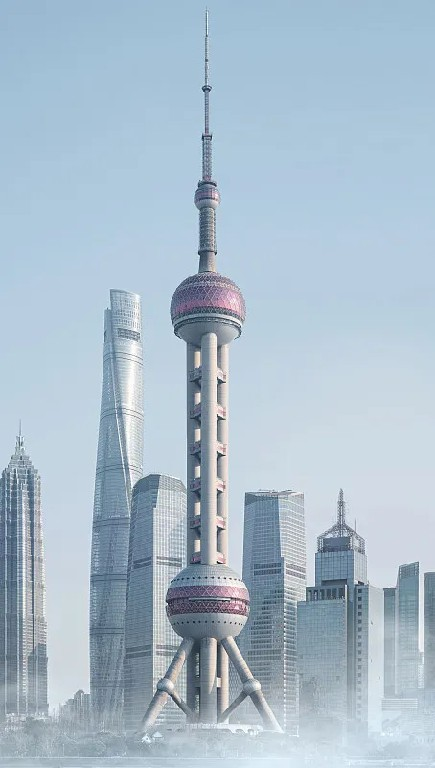Oriental: (142, 9, 279, 727)
